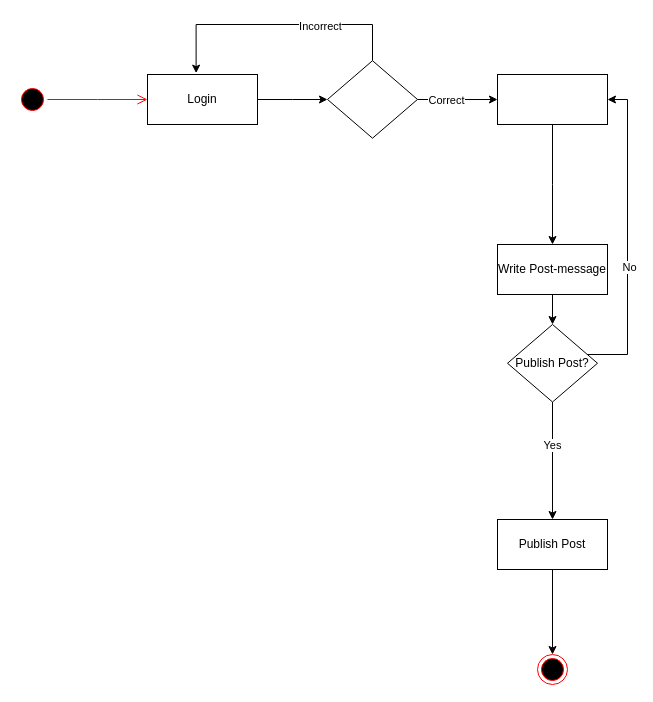
Some shapes in this 653 by 702 pixel diagram are drawn without their labels. The shapes that lost their labels are listed below. From the top down, each one's centre as x and y in pixels, then its label:
pixel 372 99: Correct Credentials?
pixel 552 99: Create Post
